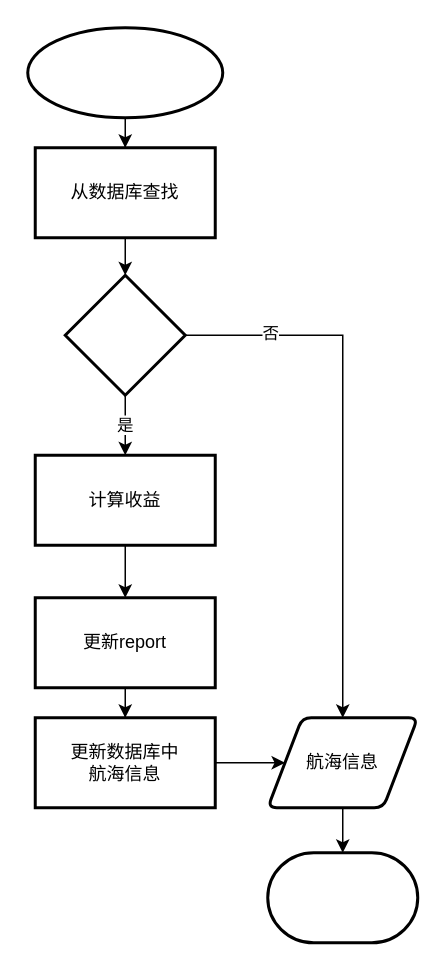
The diagram is 444 pixels wide and 969 high, and some of its shapes have lost their labels. The shapes that lost their labels are listed below. From the top down, each one's centre as x and y in pixels, then its label:
At (125,72): "get_sail_info_format".
At (124,334): "航行中".
At (342,897): "返回".
